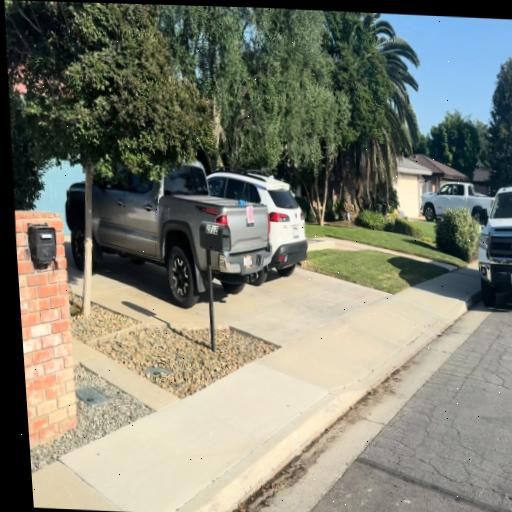bullseye: (247, 205, 254, 223)
